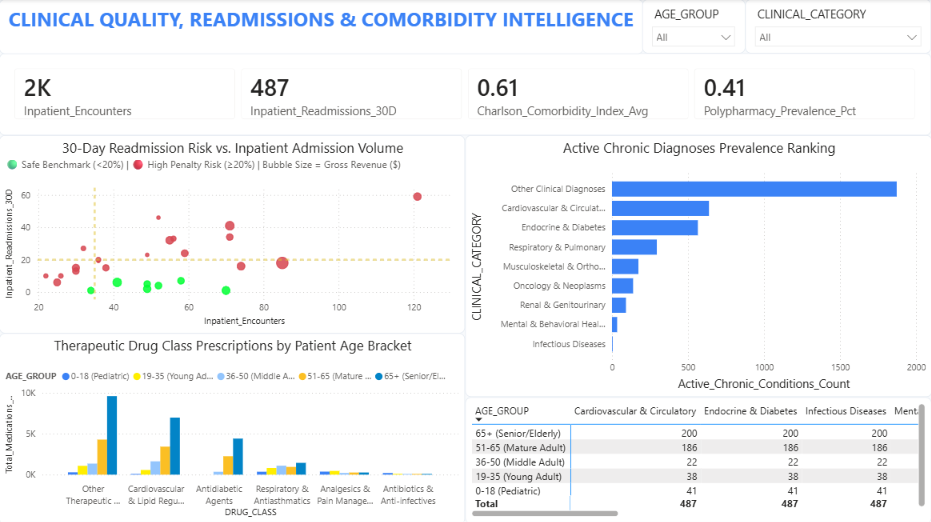

What the dashboard file says about the page in this screenshot:
{"tool":"powerbi","page":{"name":"Clinical Quality (CMO)","canvas":[1280,720],"ordinal":1},"visuals":[{"type":"cardVisual","fields":{"Data":["_Measures.Inpatient_Encounters","_Measures.Inpatient_Readmissions_30D","_Measures.Charlson_Comorbidity_Index_Avg","_Measures.Polypharmacy_Prevalence_Pct"]},"box":[0,74.1,1278.9,112.5],"z":0},{"type":"scatterChart","title":"30-Day Readmission Risk vs. Inpatient Admission Volume","fields":{"Category":["Dim_Organizations.NAME"],"Size":["_Measures.Total_Billed_Revenue"],"X":["_Measures.Inpatient_Encounters"],"Y":["_Measures.Inpatient_Readmissions_30D"]},"box":[0,186.6,639.5,271.7],"z":1000},{"type":"clusteredBarChart","title":"Active Chronic Diagnoses Prevalence Ranking","fields":{"Category":["Fact_Conditions.CLINICAL_CATEGORY"],"Y":["_Measures.Active_Chronic_Conditions_Count"]},"box":[639.5,186.6,640.8,359.5],"z":2000},{"type":"clusteredColumnChart","title":"Therapeutic Drug Class Prescriptions by Patient Age Bracket","fields":{"Category":["Fact_Medications.DRUG_CLASS"],"Series":["Dim_Patients.AGE_GROUP"],"Y":["_Measures.Total_Medications_Prescribed"]},"box":[0,458.3,639.5,262.1],"z":3000},{"type":"pivotTable","fields":{"Columns":["Fact_Conditions.CLINICAL_CATEGORY"],"Rows":["Dim_Patients.AGE_GROUP"],"Values":["_Measures.Active_Chronic_Conditions_Count"]},"box":[639.5,546.1,640,173.3],"z":4000},{"type":"textbox","box":[0,0,883.7,75.5],"z":5000},{"type":"slicer","fields":{"Values":["Dim_Patients.AGE_GROUP"]},"box":[882.3,0,141.3,74.1],"z":6000},{"type":"slicer","fields":{"Values":["Fact_Conditions.CLINICAL_CATEGORY"]},"box":[1023.7,0,255.2,74.1],"z":7000}]}

Visuals, with their boxes in screenshot pixels (x1, y1, x2, y2), scaled from the page's 1280x720 canvas onto the 931x522 screenshot:
cardVisual - _Measures.Inpatient_Encounters x _Measures.Inpatient_Readmissions_30D: pyautogui.locateOnScreen(0, 54, 930, 135)
"30-Day Readmission Risk vs. Inpatient Admission Volume" scatterChart: pyautogui.locateOnScreen(0, 135, 465, 332)
"Active Chronic Diagnoses Prevalence Ranking" clusteredBarChart: pyautogui.locateOnScreen(465, 135, 930, 396)
"Therapeutic Drug Class Prescriptions by Patient Age Bracket" clusteredColumnChart: pyautogui.locateOnScreen(0, 332, 465, 521)
pivotTable - Fact_Conditions.CLINICAL_CATEGORY x Dim_Patients.AGE_GROUP: pyautogui.locateOnScreen(465, 396, 930, 521)
textbox: pyautogui.locateOnScreen(0, 0, 643, 55)
slicer - Dim_Patients.AGE_GROUP: pyautogui.locateOnScreen(642, 0, 745, 54)
slicer - Fact_Conditions.CLINICAL_CATEGORY: pyautogui.locateOnScreen(745, 0, 930, 54)
